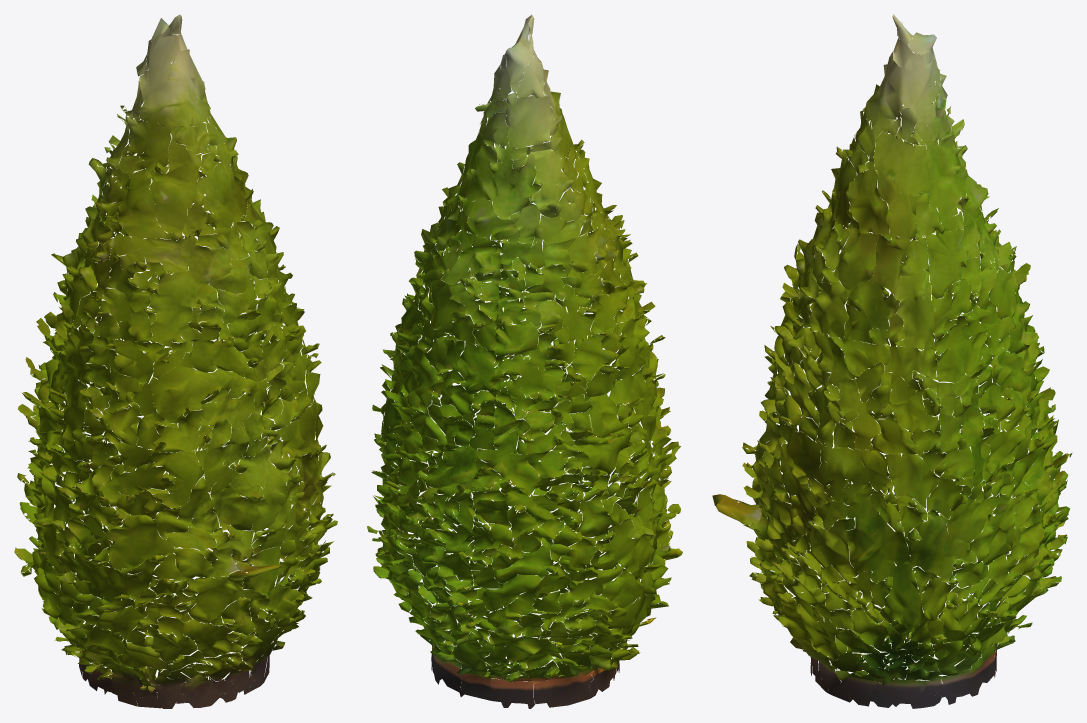
The model's file is tree_arborvitae.glb.
The picture shows the model from 3 angles, left to right: view 1: azimuth 30°, elevation 25°; view 2: azimuth 150°, elevation 25°; view 3: azimuth 270°, elevation 25°; orthographic projection.
Size of the model in its own units: 1.34 by 3.01 by 1.5.
1 material, 1 textured.
